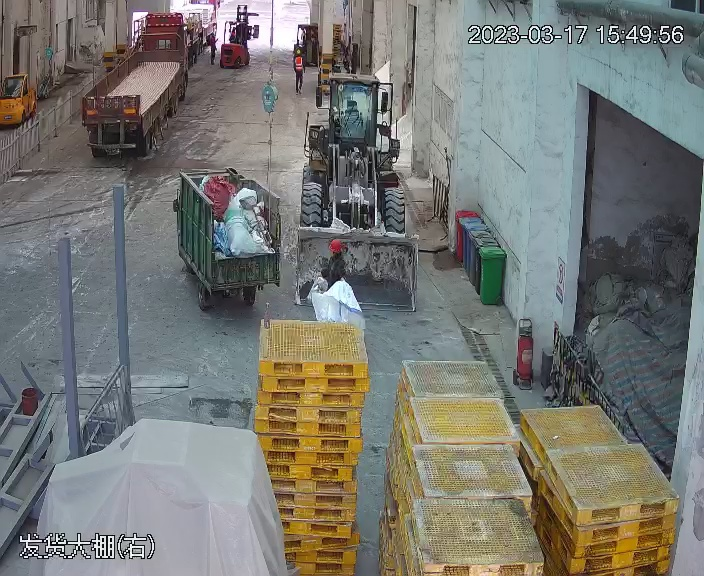head: (322, 239, 349, 270), (294, 49, 304, 63)
helmet: (329, 239, 346, 252), (296, 49, 301, 55)
people: (314, 239, 353, 295), (289, 46, 309, 94), (208, 30, 219, 66)
truck: (81, 7, 194, 162)
